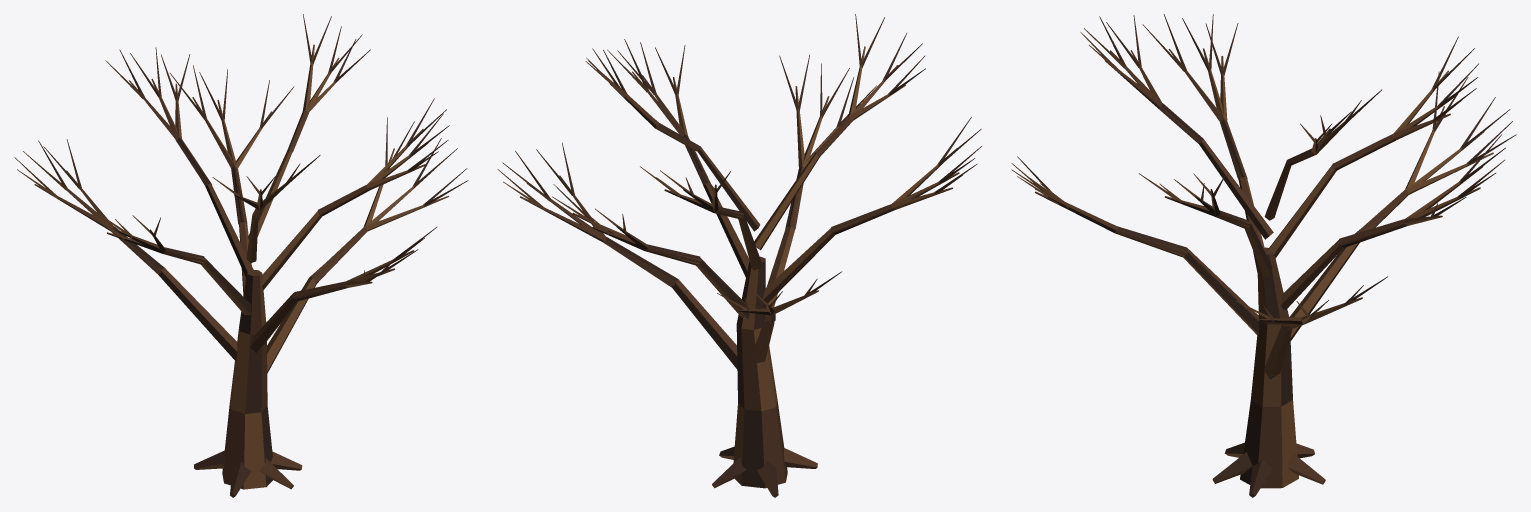
The model's file is tree_beech_bare.obj.
The picture shows the model from 3 angles, left to right: view 1: azimuth 30°, elevation 25°; view 2: azimuth 150°, elevation 25°; view 3: azimuth 270°, elevation 25°; orthographic projection. The views are drawn at different scales.
Parts seen in each view (by area): view 1: tree_beech_bare; view 2: tree_beech_bare; view 3: tree_beech_bare.
Part boxes in pixels (x1,y1,x2,y2): tree_beech_bare: (14,14,468,497); tree_beech_bare: (497,14,981,497); tree_beech_bare: (1011,14,1516,497).
Size of the model in its own units: 691 by 660 by 679.
Materials: 1 (1 with a texture image).
